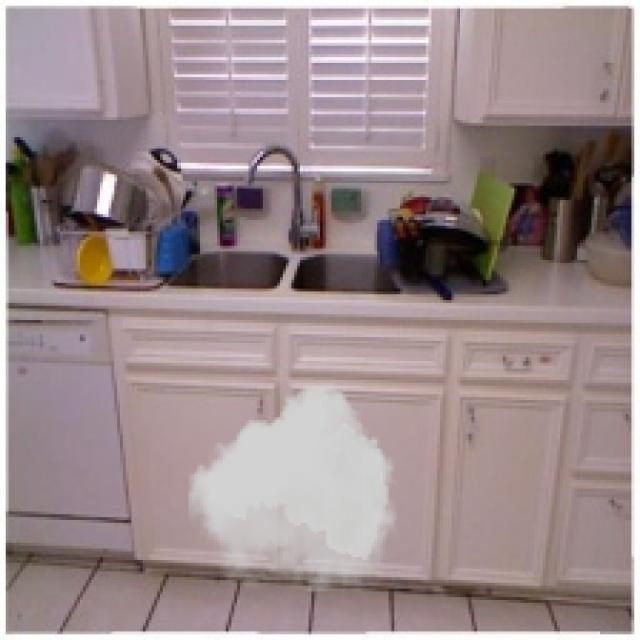smoke: (189, 383, 397, 591)
